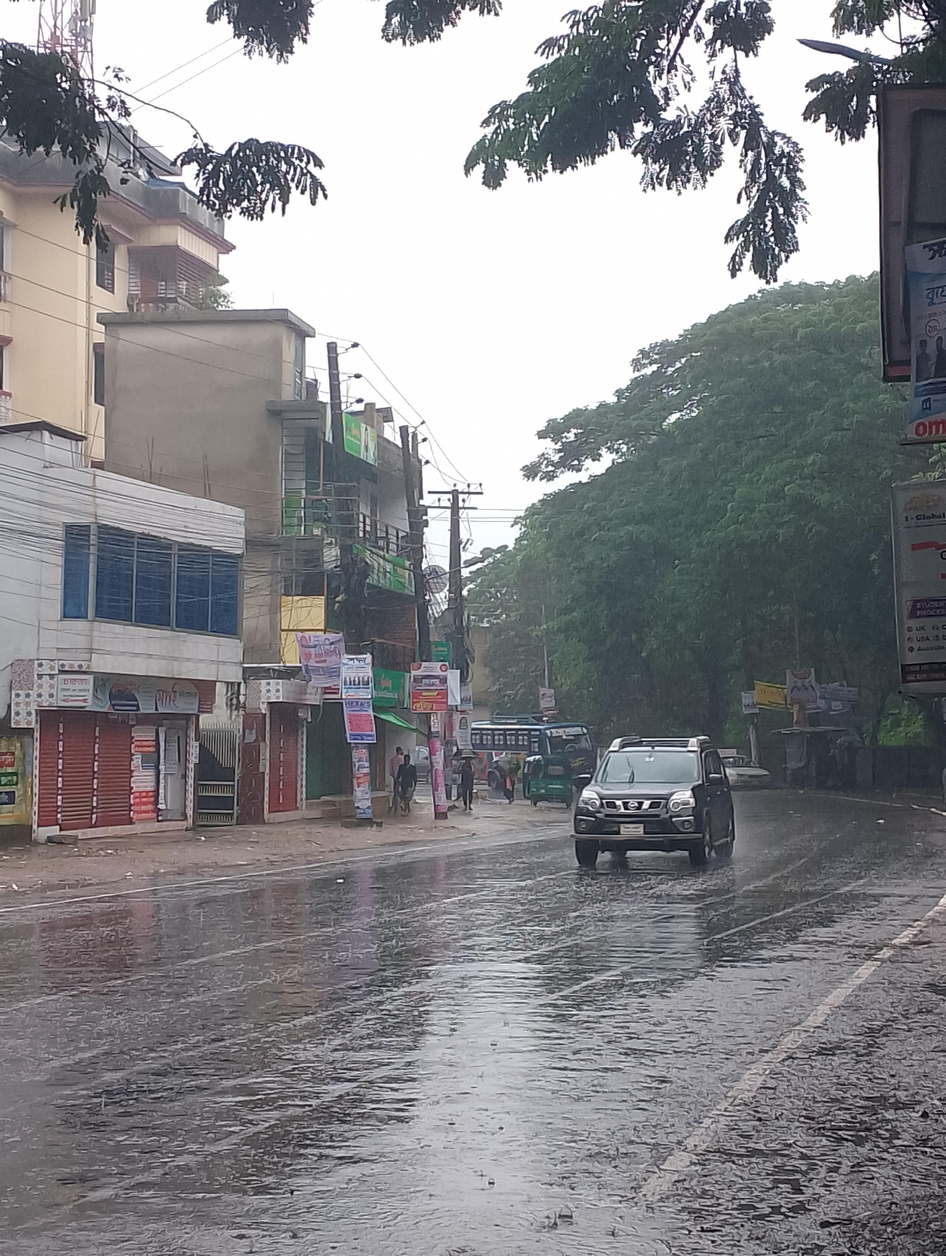Bus: (462, 701, 602, 786)
Car: (569, 728, 746, 897)
